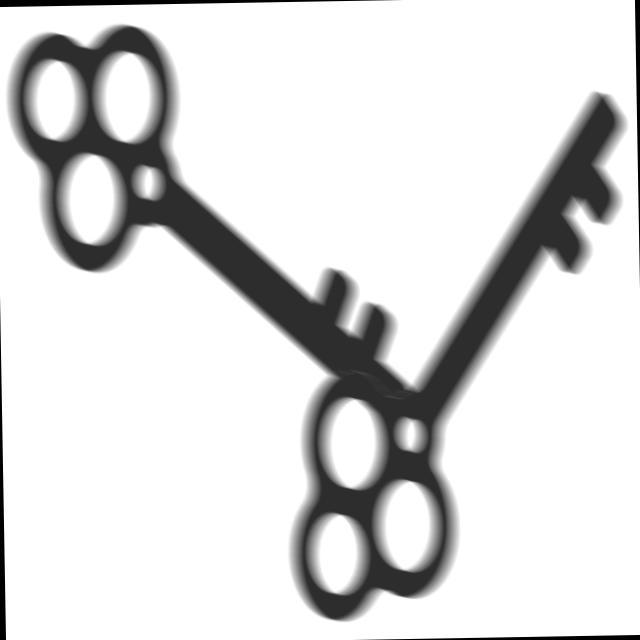key: (284, 7, 630, 632), (4, 10, 438, 449)
